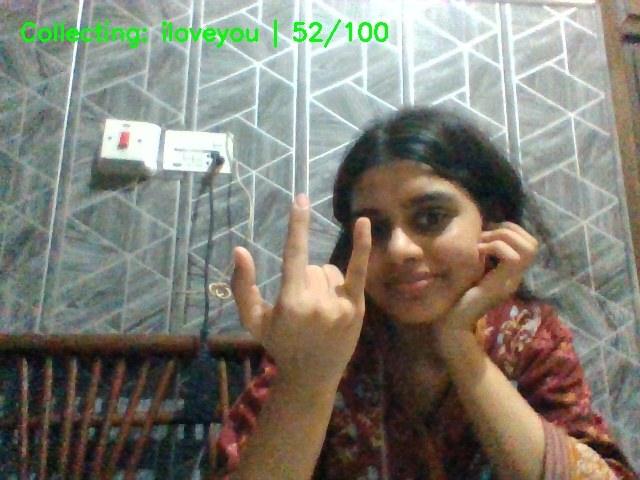iloveyou: (228, 181, 380, 393)
